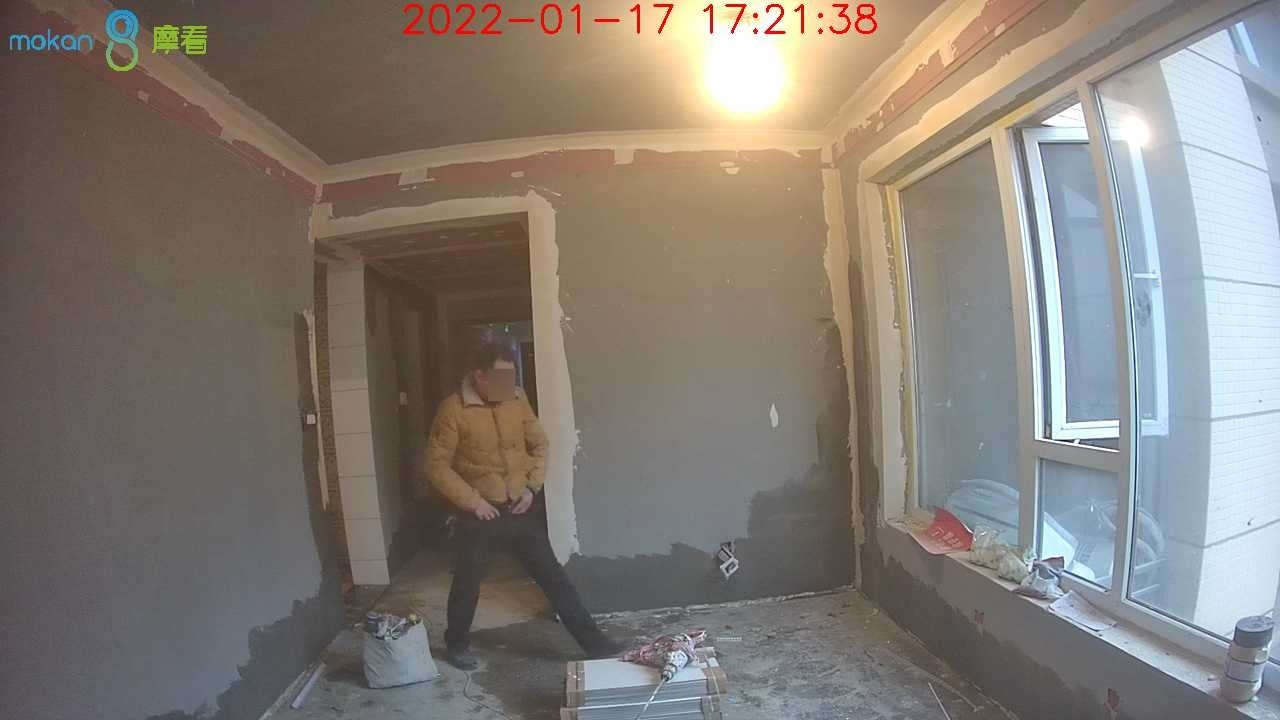people: (425, 345, 631, 669)
window: (894, 5, 1280, 674)
